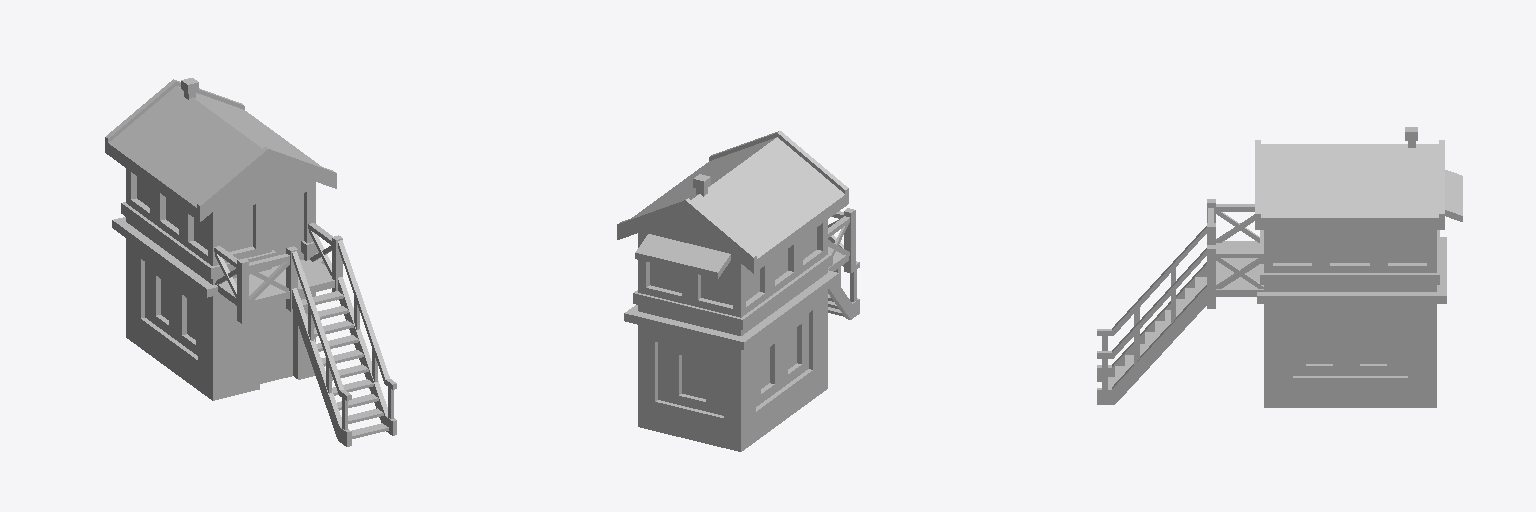
File: SM_Bld_Signal_Tower_01.obj
3 renders of one model, left to right at view 1: azimuth 30°, elevation 25°; view 2: azimuth 150°, elevation 25°; view 3: azimuth 270°, elevation 25°, orthographic.
Visible parts, largest first — view 1: SM_Bld_Signal_Tower_01:Mesh; view 2: SM_Bld_Signal_Tower_01:Mesh; view 3: SM_Bld_Signal_Tower_01:Mesh.
Part boxes in pixels (bbox=[...]): SM_Bld_Signal_Tower_01:Mesh: bbox=[105, 78, 396, 446]; SM_Bld_Signal_Tower_01:Mesh: bbox=[617, 131, 859, 451]; SM_Bld_Signal_Tower_01:Mesh: bbox=[1097, 127, 1462, 407].
Size of the model in its own units: 6.84 by 12.12 by 15.86.